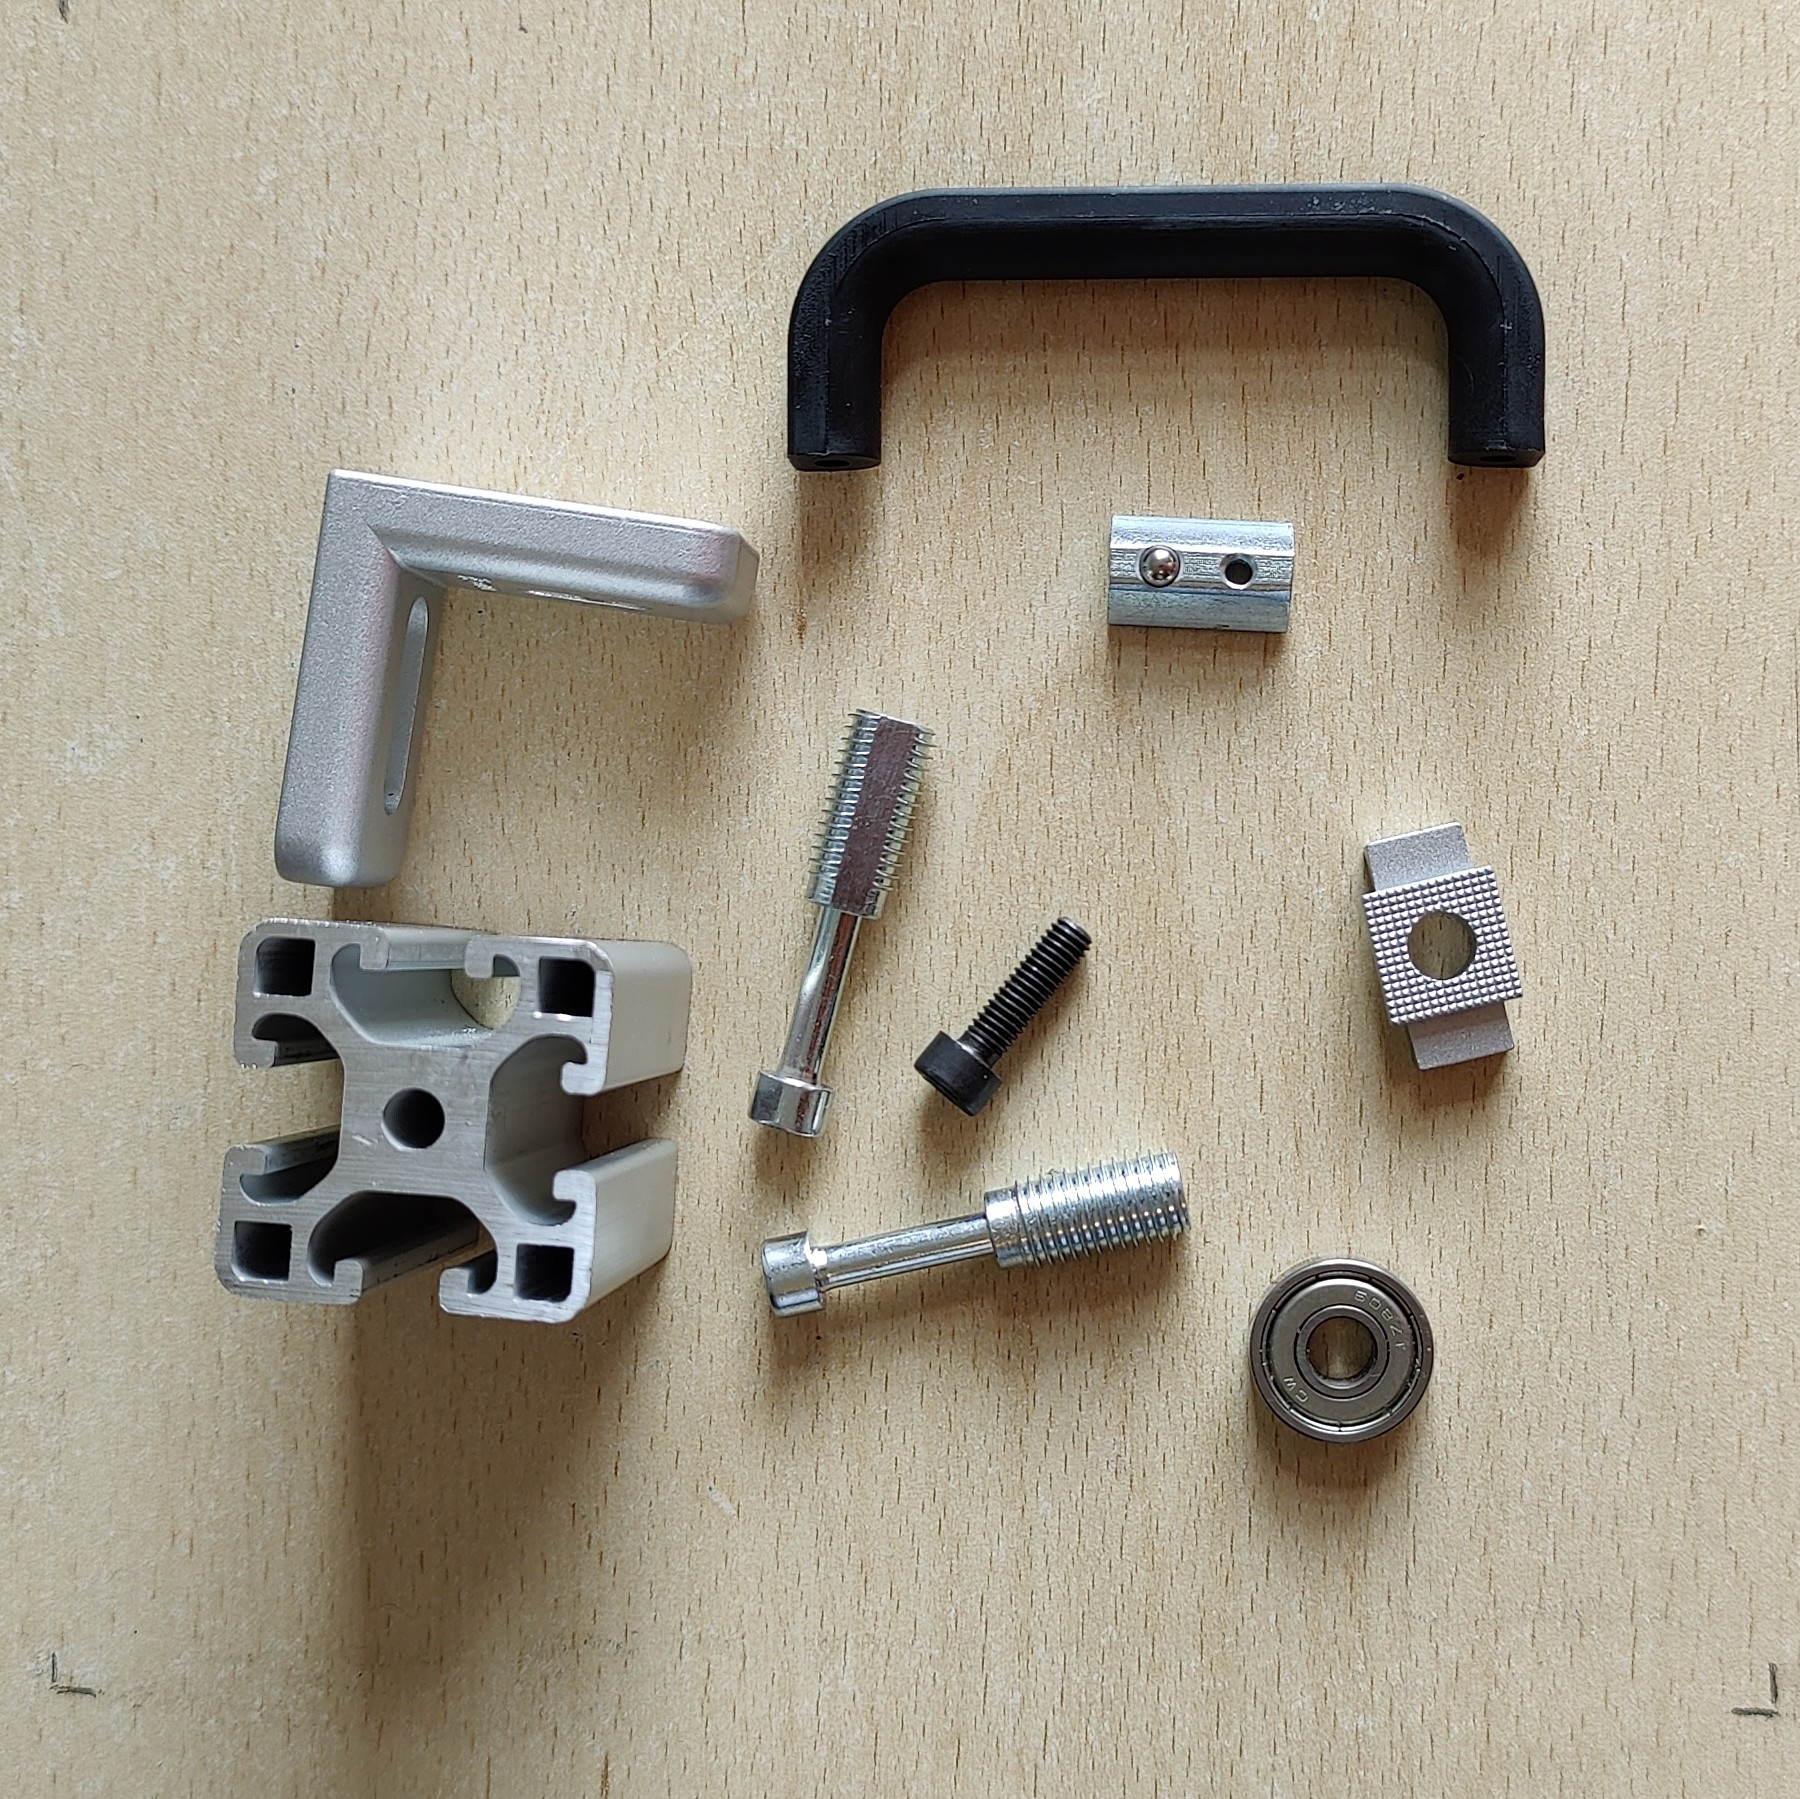Aluminium Extension: (211, 913, 697, 1329)
Ball Bearing: (1243, 1254, 1436, 1448)
Multiwinkel: (270, 463, 762, 895)
Pull Handle: (782, 183, 1548, 473)
Shoulder Socket Head Cap Screw: (744, 707, 939, 1142), (759, 1142, 1192, 1323)
Socket Head Cap Screw: (912, 911, 1094, 1119)
T Nut Square: (1362, 819, 1525, 1079)
T Spring Nut: (1100, 511, 1299, 638)
